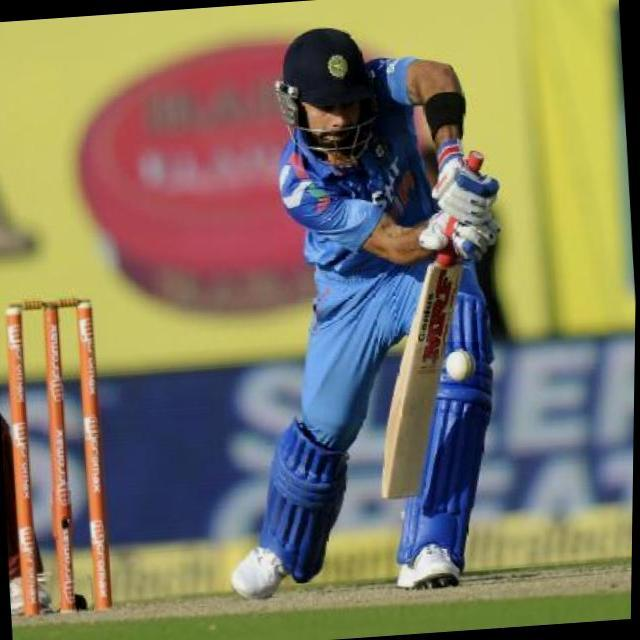-: (444, 342, 481, 389)
